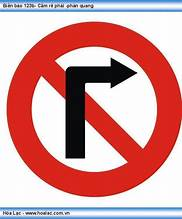No_turn_right: (4, 21, 182, 199)
